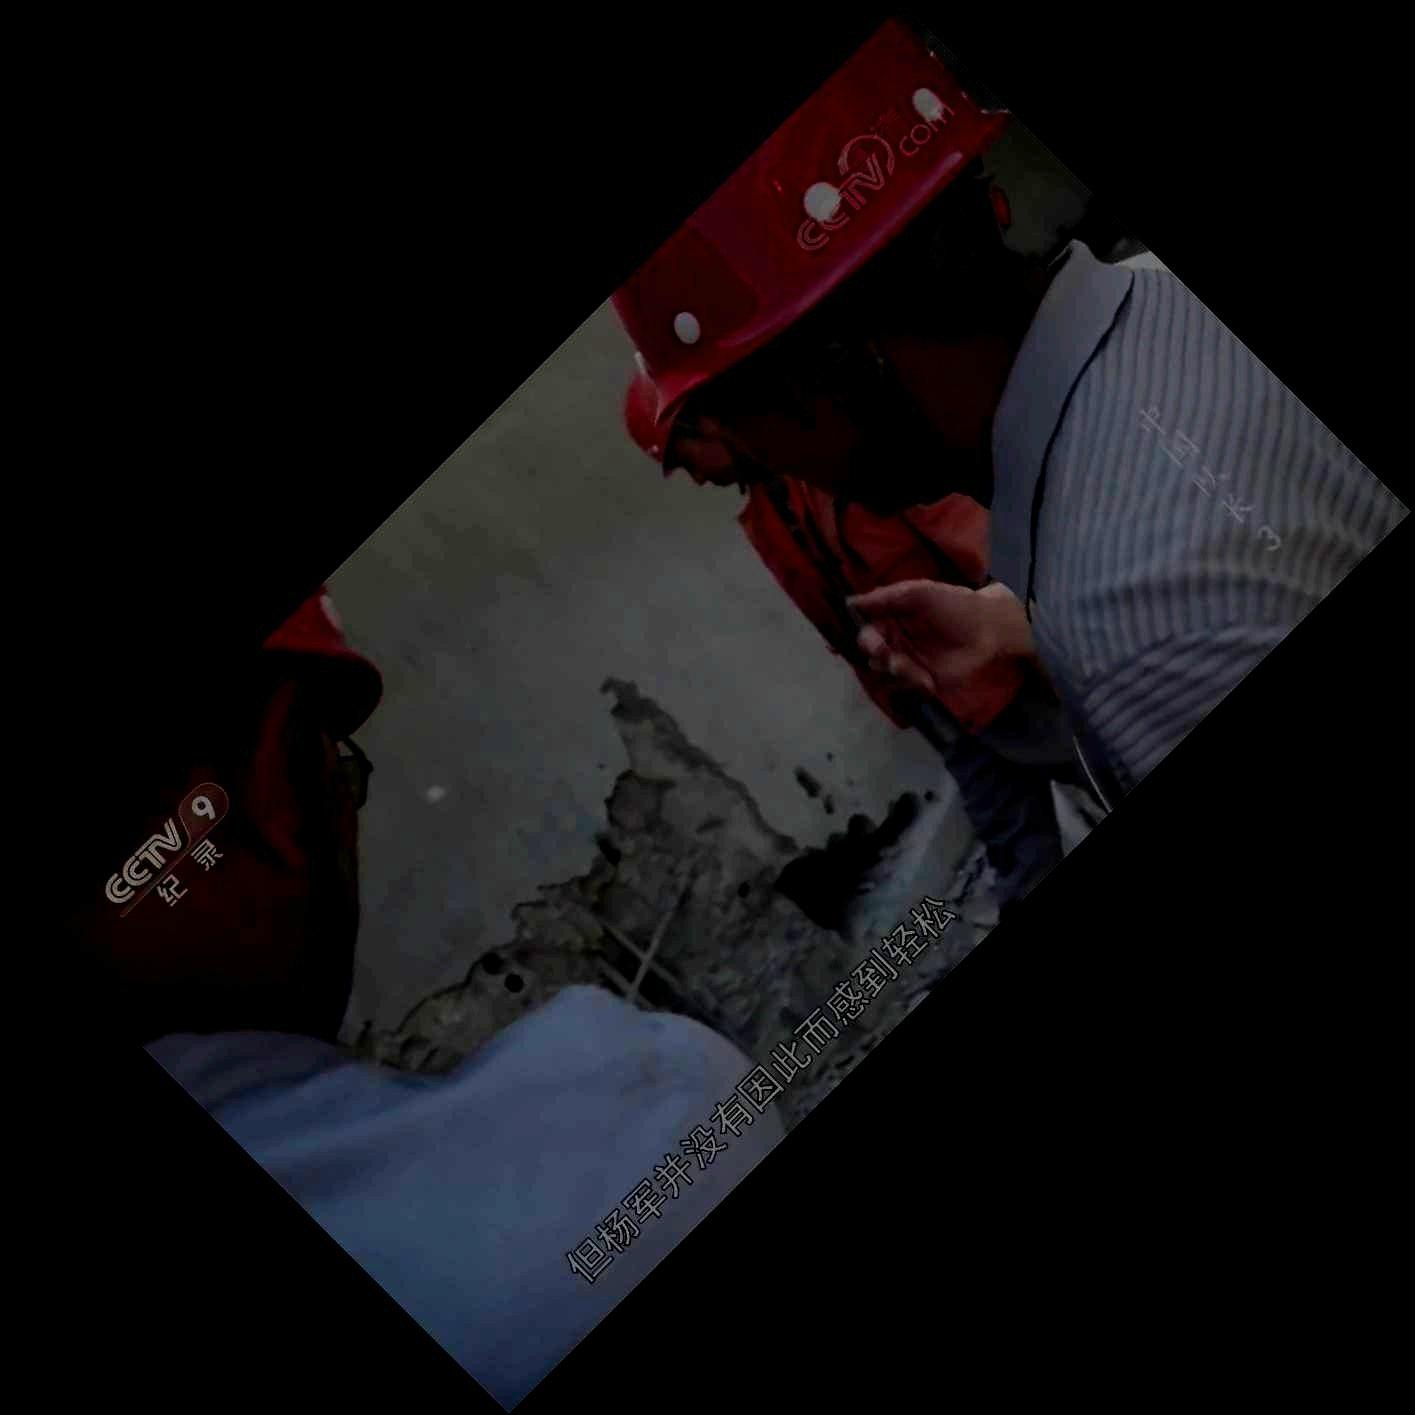helmet: (610, 16, 1051, 505), (89, 583, 384, 1039), (621, 369, 737, 489)
